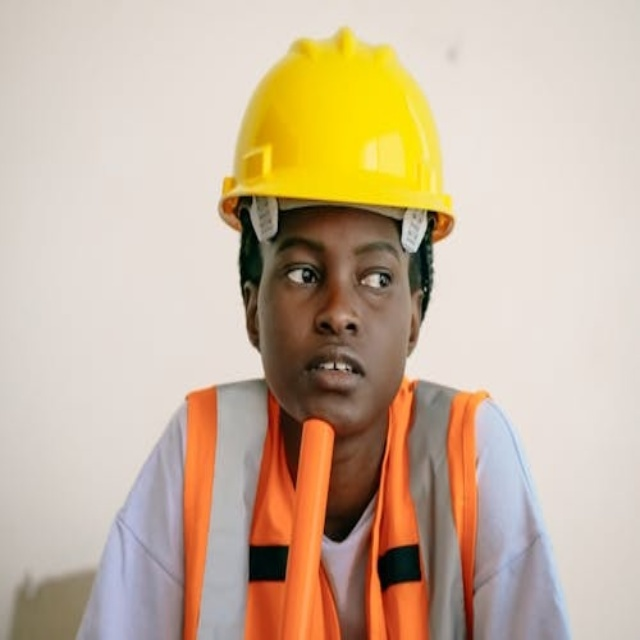Sin_gafas: (268, 234, 406, 309)
Sin_mascara: (289, 338, 376, 425)
